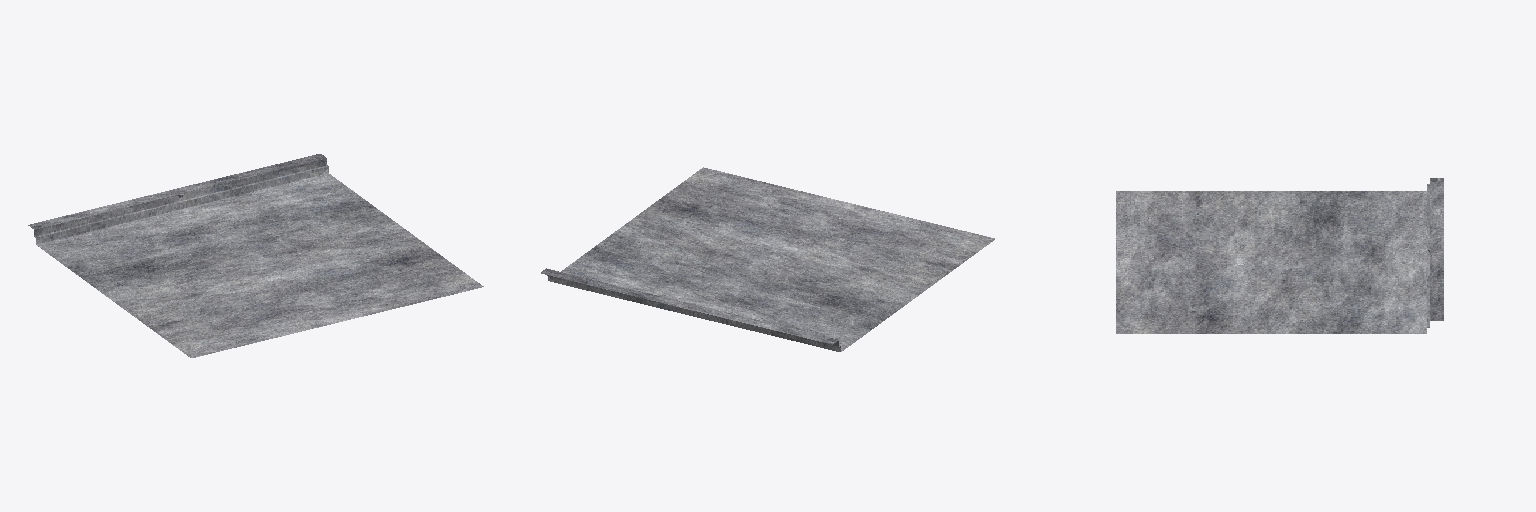
The picture shows the model from 3 angles: view 1: azimuth 30°, elevation 25°; view 2: azimuth 150°, elevation 25°; view 3: azimuth 270°, elevation 25°; orthographic projection.
Visible parts, largest first — view 1: yuka; view 2: yuka; view 3: yuka.
Boxes of the visible parts, box(x1,y1,x2,y2) form: yuka: box(28, 154, 483, 357); yuka: box(541, 167, 994, 351); yuka: box(1116, 178, 1443, 333).
Bounding box in the file's own units: 111 × 5 × 107.
Materials: 1 (1 with a texture image).